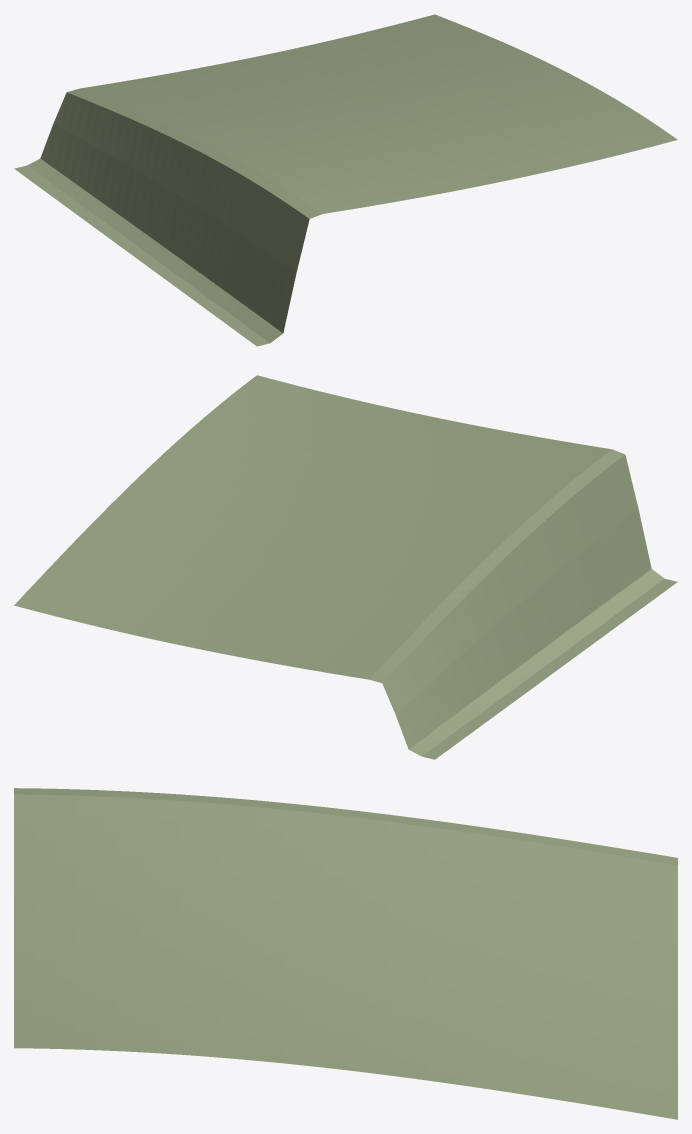
File: valley-8-14.glb
3 views of the same model, one above another, from view 1: azimuth 30°, elevation 25°; view 2: azimuth 150°, elevation 25°; view 3: azimuth 270°, elevation 25° (orthographic). The views are drawn at different scales.
Visible parts, largest first — view 1: valley-8-14; view 2: valley-8-14; view 3: valley-8-14.
Boxes of the visible parts, bbox=[...] form: valley-8-14: bbox=[14, 14, 677, 346]; valley-8-14: bbox=[14, 375, 677, 759]; valley-8-14: bbox=[14, 788, 677, 1119].
Size of the model in its own units: 256 by 67.72 by 256.
